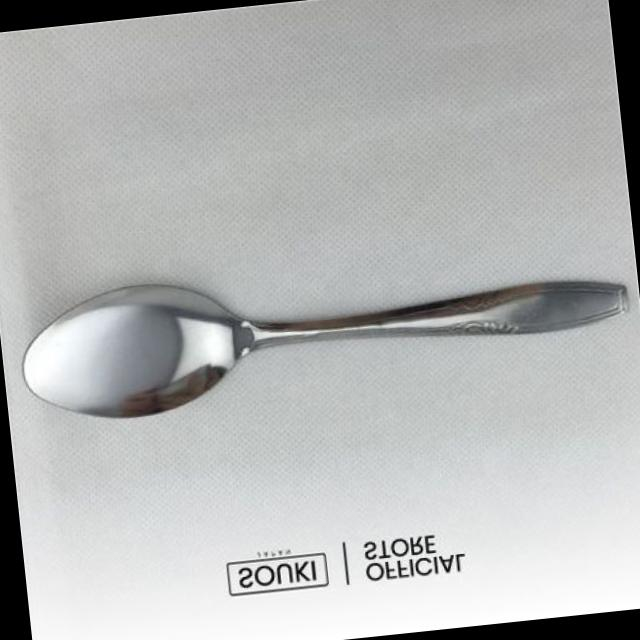spoon: (9, 221, 640, 434)
